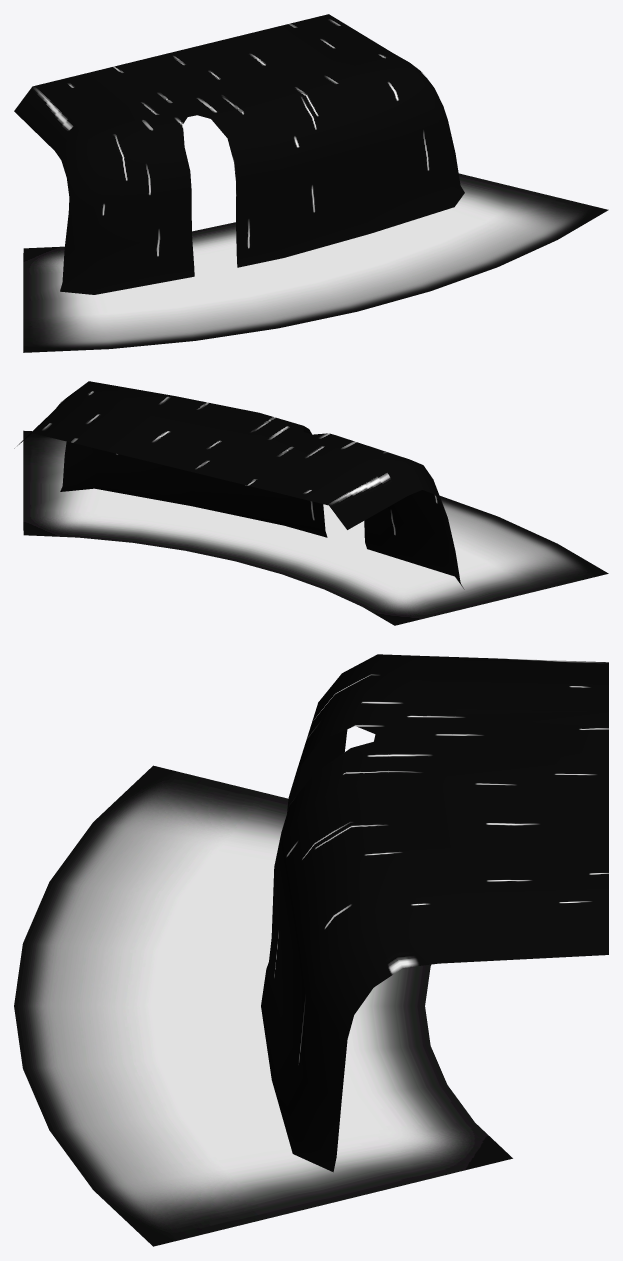
The model's file is P_WaterfallSplit1.obj.
The picture shows the model from 3 angles, top to bottom: view 1: azimuth 30°, elevation 25°; view 2: azimuth 150°, elevation 25°; view 3: azimuth 270°, elevation 25°; orthographic projection. The views are drawn at different scales.
Size of the model in its own units: 17.63 by 3.82 by 9.21.
